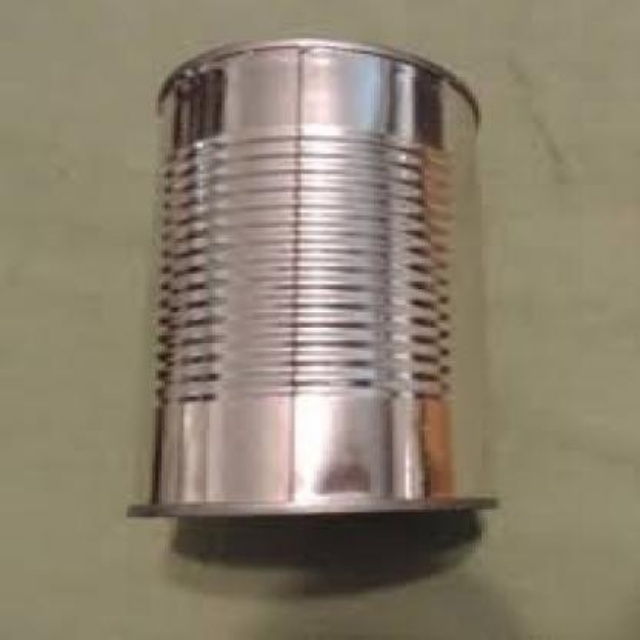trash: (128, 38, 494, 555)
